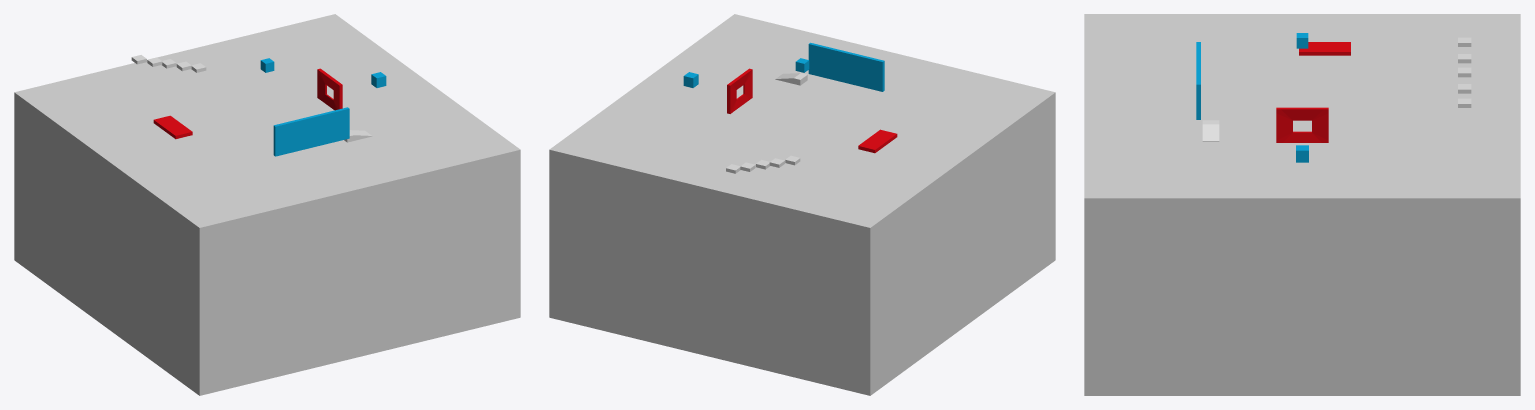
The model's file is SandboxLevel.fbx.
3 views of the same model, side by side, from view 1: azimuth 30°, elevation 25°; view 2: azimuth 150°, elevation 25°; view 3: azimuth 270°, elevation 25° (orthographic). The views are drawn at different scales.
Visible parts, largest first — view 1: Floor, Wall Run, Grapple Through Point, Jump Platforms, Slide Test; view 2: Floor, Wall Run, Grapple Through Point, Jump Platforms, Slide Test; view 3: Floor, Grapple Through Point, Wall Run, Jump Platforms, Slide Test.
Part boxes in pixels (box(x1,y1,x2,y2)): Floor: box(14, 14, 520, 395); Wall Run: box(273, 107, 372, 156); Grapple Through Point: box(317, 68, 386, 110); Jump Platforms: box(131, 55, 206, 72); Slide Test: box(153, 115, 192, 139); Floor: box(549, 14, 1055, 395); Wall Run: box(775, 42, 884, 91); Grapple Through Point: box(683, 68, 752, 113); Jump Platforms: box(726, 155, 800, 173); Slide Test: box(858, 129, 897, 153); Floor: box(1084, 14, 1520, 395); Grapple Through Point: box(1276, 107, 1328, 162); Wall Run: box(1196, 42, 1219, 141); Jump Platforms: box(1458, 37, 1471, 107); Slide Test: box(1299, 42, 1350, 55).
Size of the model in its own units: 200 by 136 by 200.
